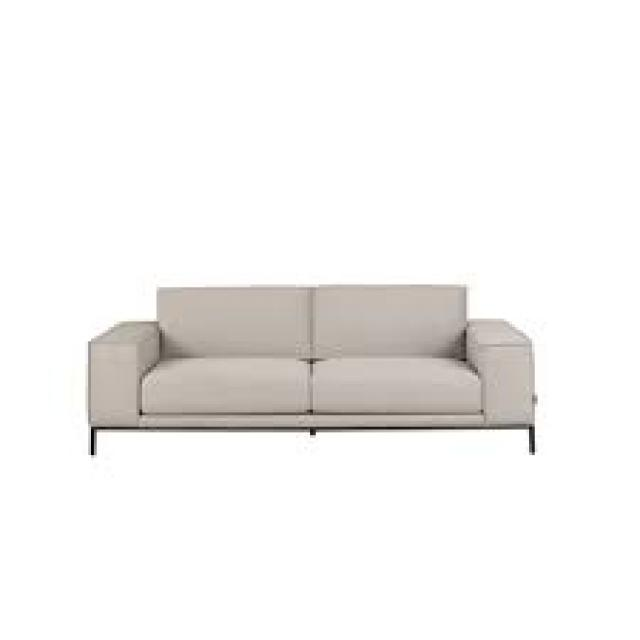Sofa: (42, 232, 567, 490)
